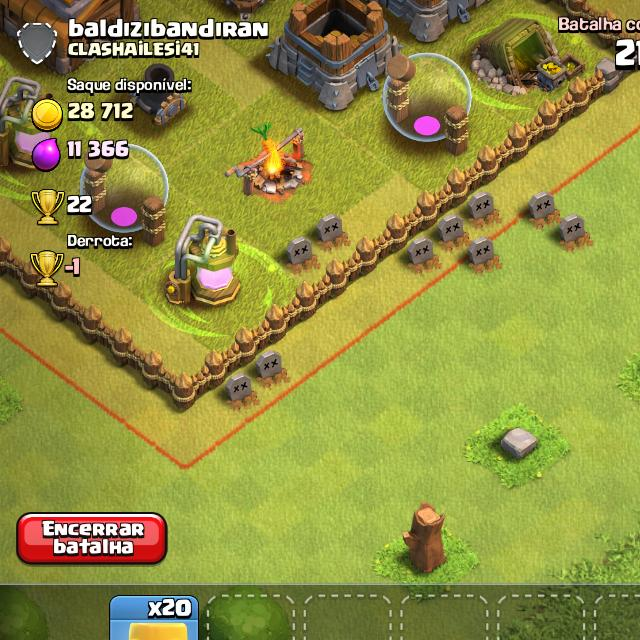ValueCoin: (68, 95, 138, 129)
ValueElixir: (66, 136, 138, 168)
